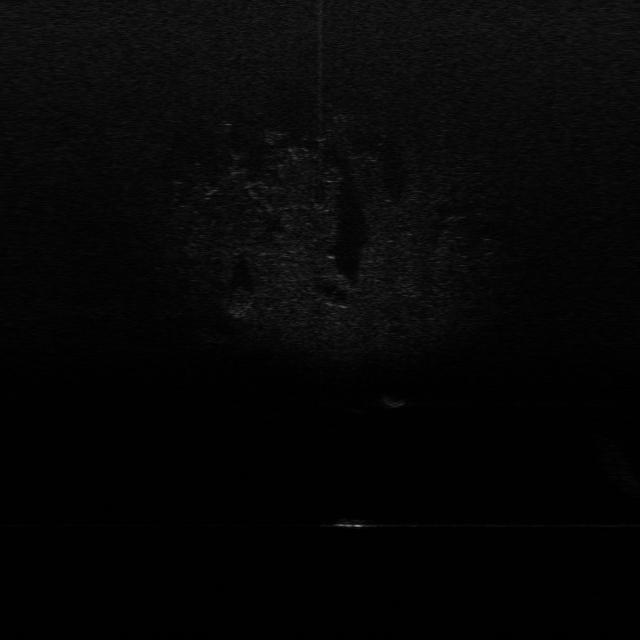cube: (324, 515, 372, 530)
square cage: (380, 394, 410, 409)
